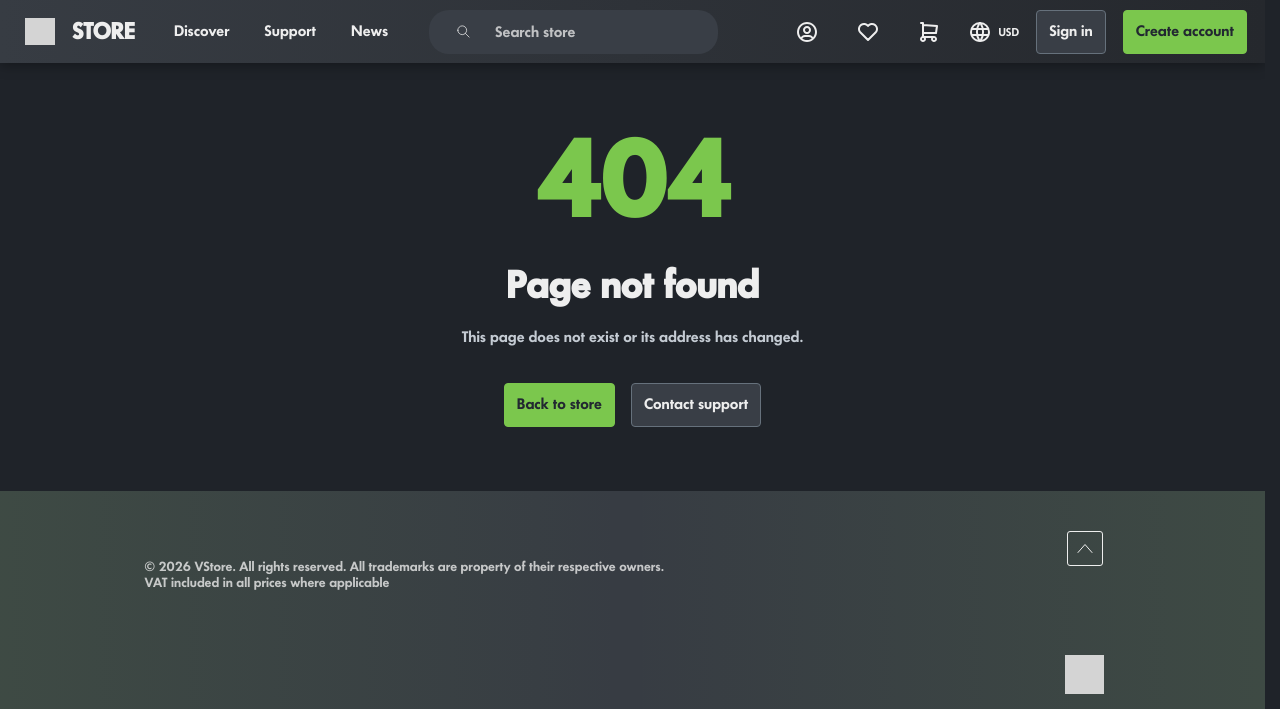
Test: not-found and library navigation › shows 404 for /missing without silently loading the catalog
Expected: the heading "Page not found" is shown, [506,266,759,306]
Expected: the text "404" is shown, [535,127,730,239]
Click the link "Back to store" at [559, 405], box [504,383,615,427]
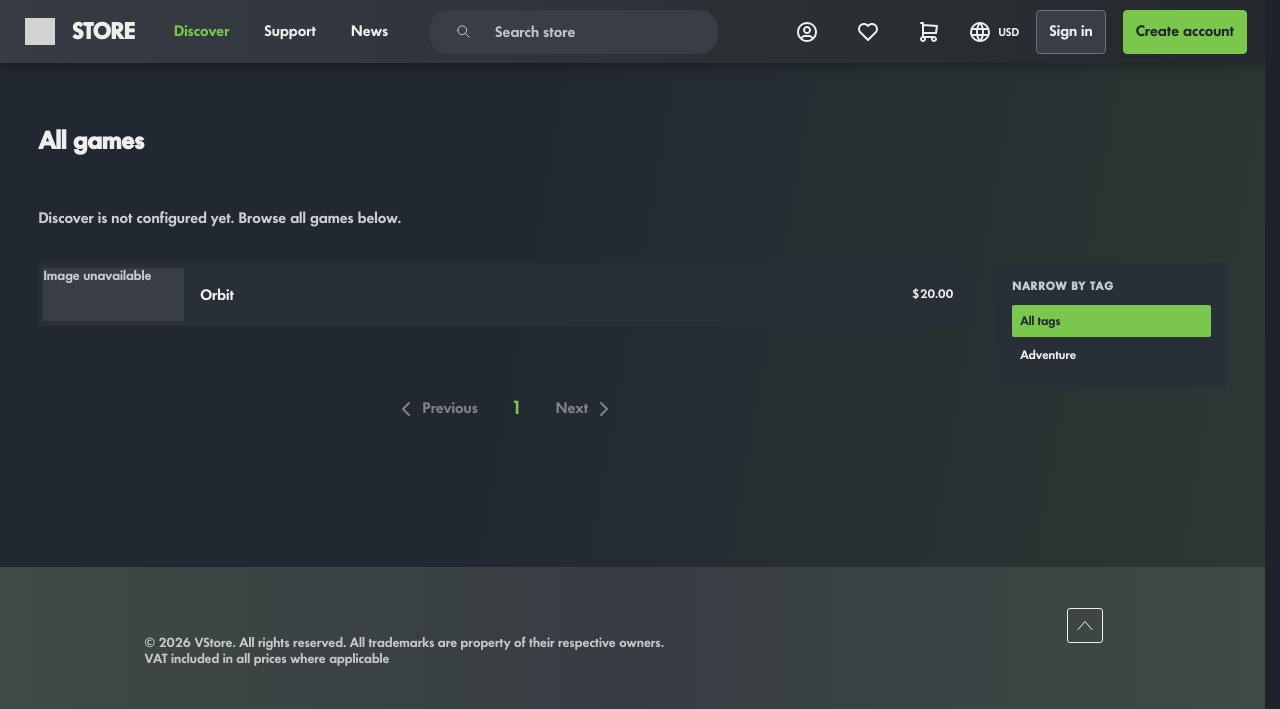
Result: the text "Orbit" is shown at [200,286,234,302]
